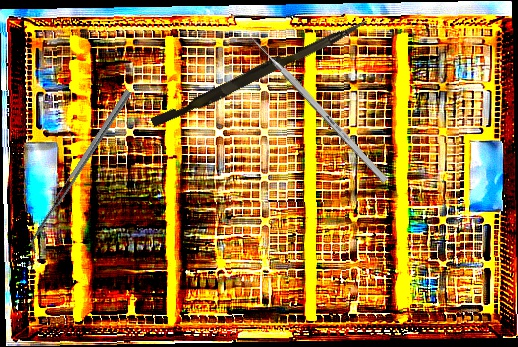Pusher: (150, 11, 369, 133), (243, 28, 389, 184)
Spatula Surgical: (24, 89, 138, 254)
